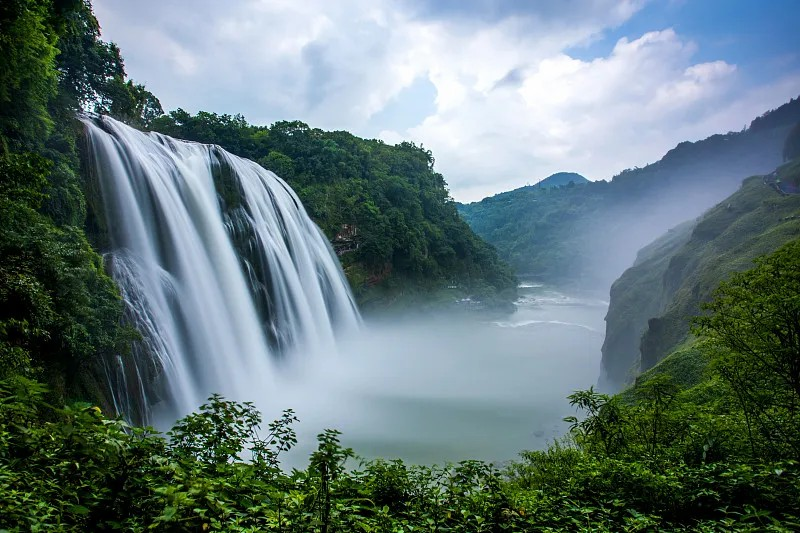Huangguoshu: (79, 113, 363, 430)
